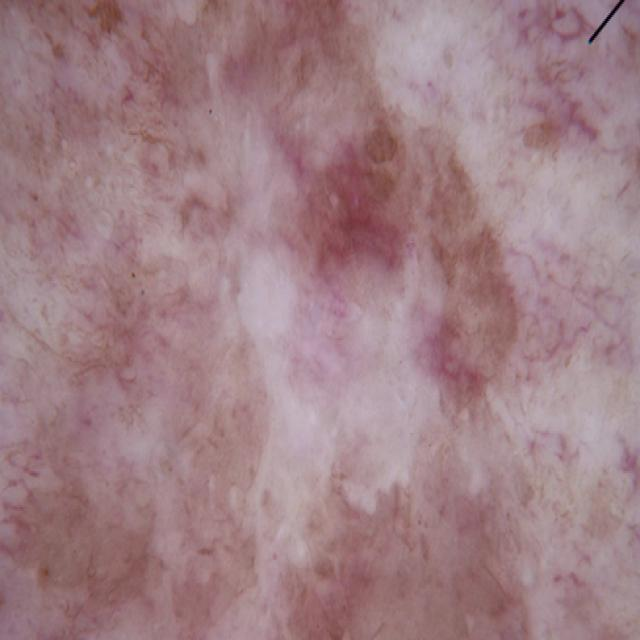Keratosis: (0, 15, 516, 640)
